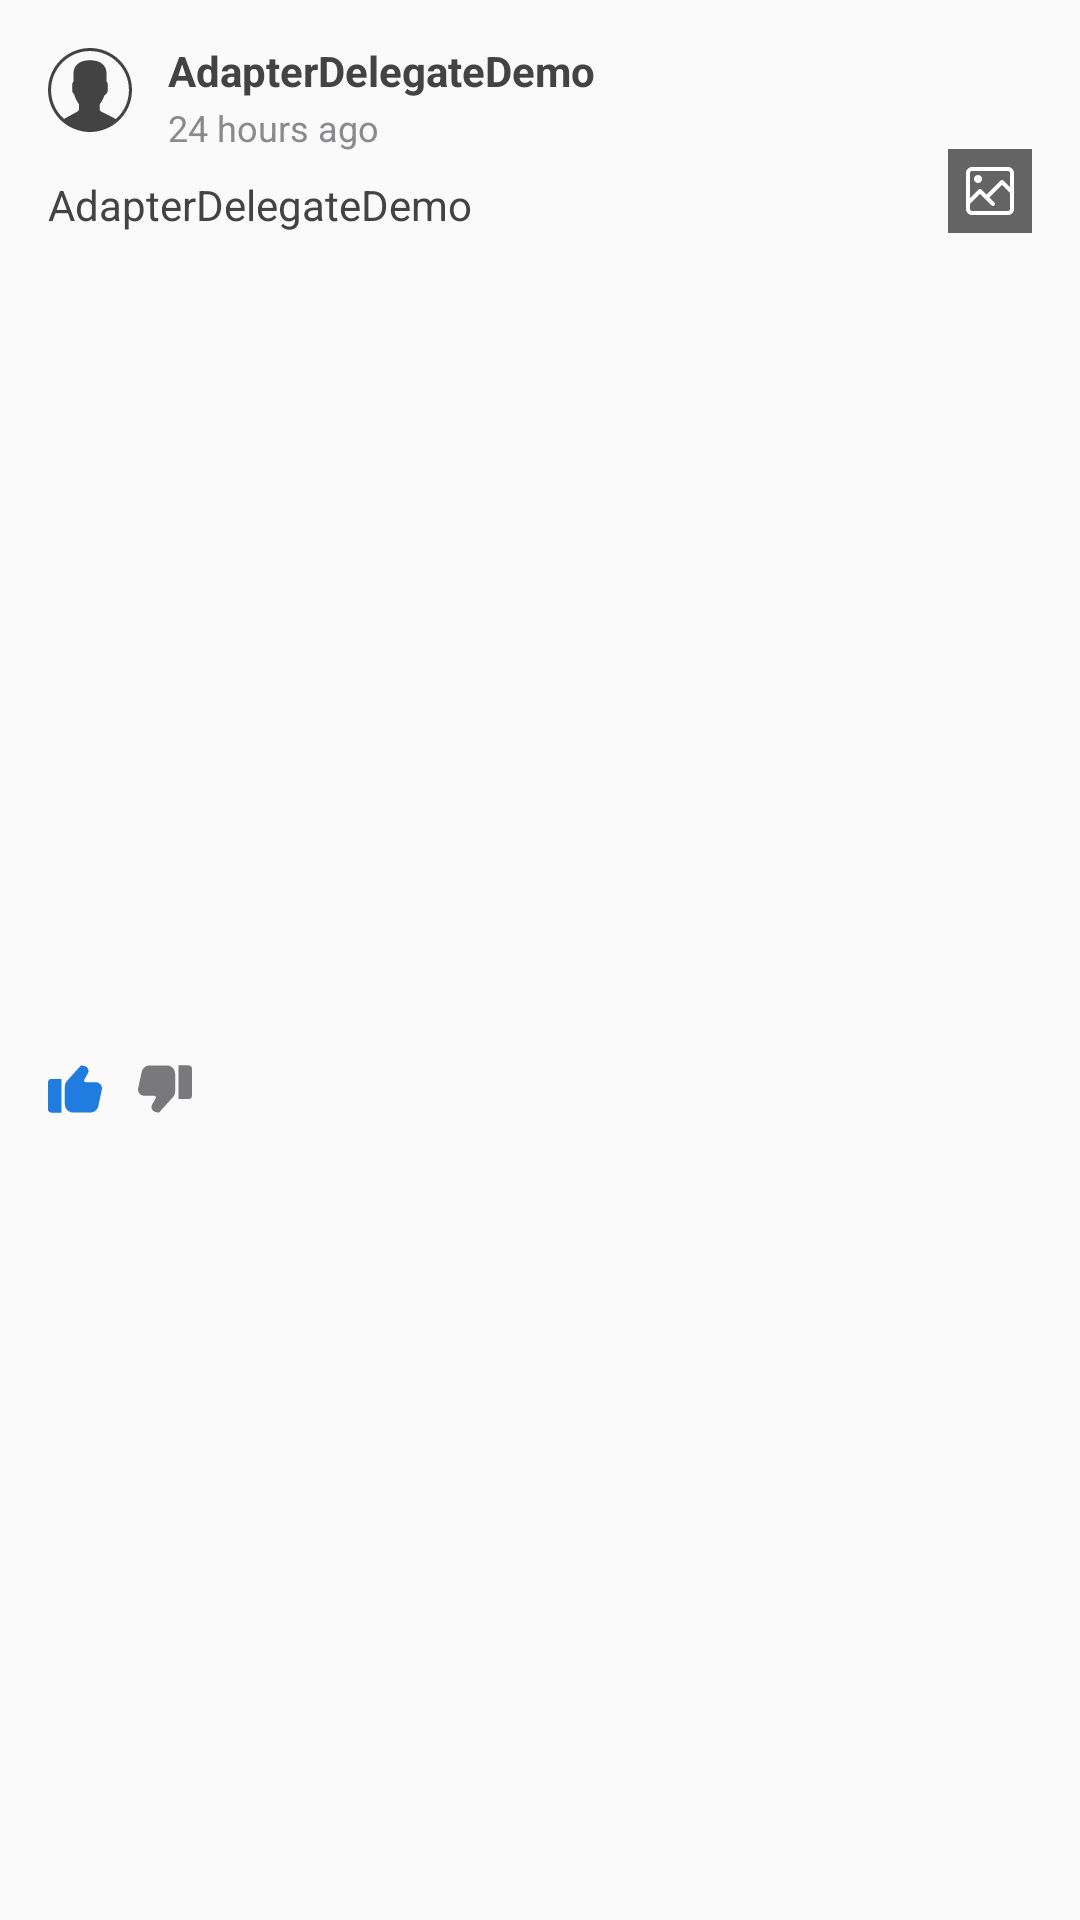

Icons on this 1080*1920 Android screen, each with its box as (x1, y1, x2, y2):
photo: (948, 149, 1032, 233)
user: (48, 48, 132, 132)
